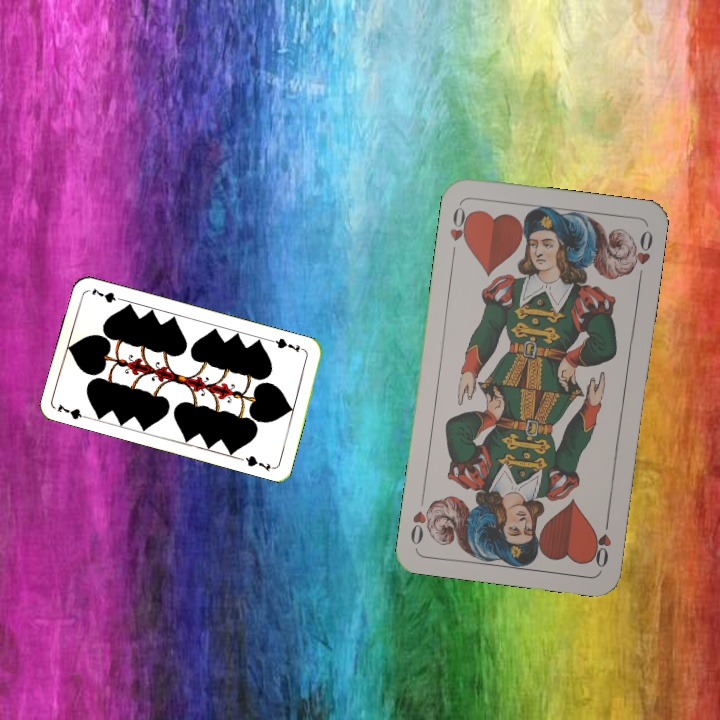G7: (53, 400, 94, 422), (268, 334, 308, 355)
HO: (445, 201, 473, 260), (589, 512, 614, 570)
